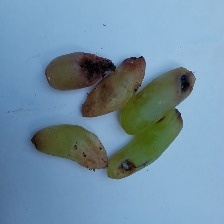grapes: (22, 30, 157, 224)
